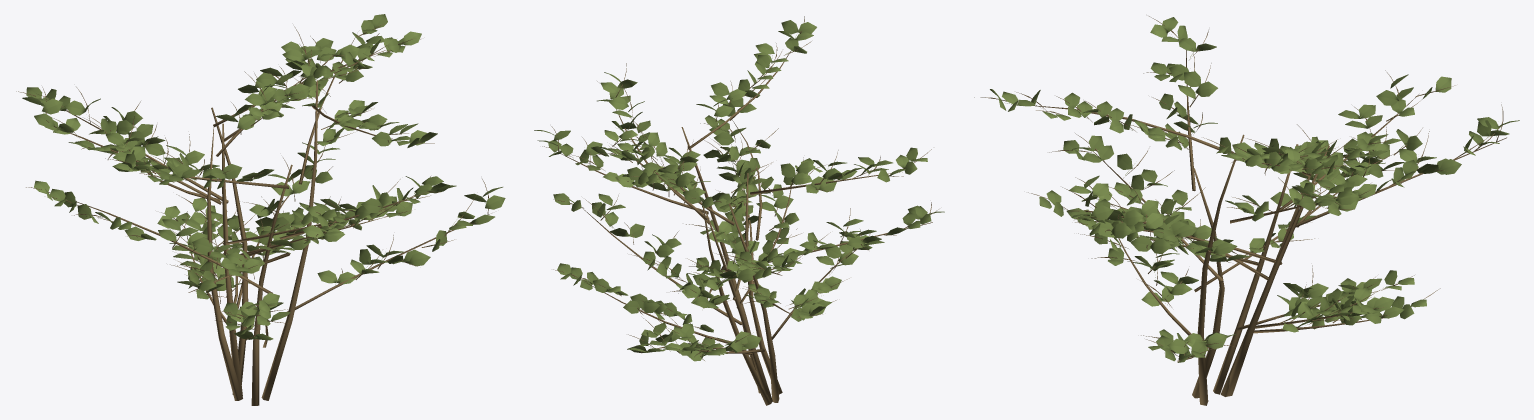
Rendered from Lentisque_2_LOD1.fbx.
3 views of the same model, side by side, from view 1: azimuth 30°, elevation 25°; view 2: azimuth 150°, elevation 25°; view 3: azimuth 270°, elevation 25° (orthographic). The views are drawn at different scales.
Visible parts, largest first — view 1: Lentisque_2_LOD1; view 2: Lentisque_2_LOD1; view 3: Lentisque_2_LOD1.
Part boxes in pixels (x1,y1,x2,y2): Lentisque_2_LOD1: (16,14,505,405); Lentisque_2_LOD1: (534,16,944,405); Lentisque_2_LOD1: (974,16,1519,405).
Size of the model in its own units: 266 by 207 by 297.
